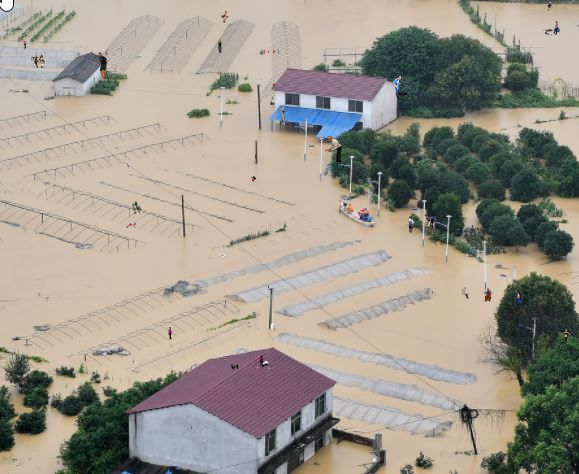Human: (409, 216, 437, 234), (461, 287, 494, 302), (324, 136, 343, 162), (93, 49, 109, 79), (392, 76, 408, 99), (542, 21, 560, 36), (256, 355, 273, 369), (31, 54, 45, 68), (561, 329, 572, 346), (259, 49, 281, 55), (132, 201, 142, 214), (280, 106, 287, 123), (220, 11, 229, 23), (433, 237, 443, 246), (272, 83, 289, 88), (78, 420, 98, 424), (218, 39, 222, 53), (231, 364, 239, 371), (270, 98, 275, 109), (547, 2, 553, 11), (14, 349, 23, 355), (168, 327, 172, 340), (23, 38, 27, 51), (126, 223, 136, 228), (516, 292, 520, 303), (251, 176, 256, 182), (125, 163, 130, 169), (191, 426, 196, 429), (424, 29, 427, 32), (543, 445, 546, 448), (415, 309, 417, 313), (224, 358, 226, 361), (204, 371, 206, 374), (268, 285, 269, 288)
